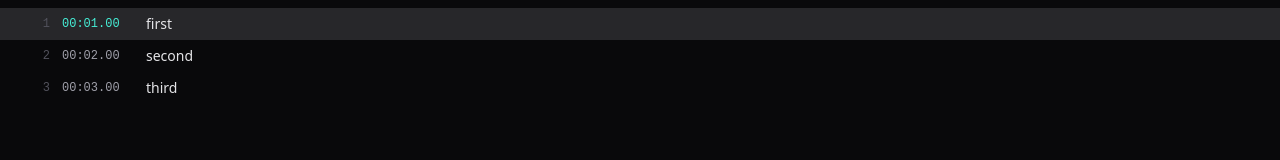
it: a lyric row › double-clicking opens the words for editing
Double-click the option "2 00:02.00 second": (118, 56) left=43, top=46, right=193, bottom=65
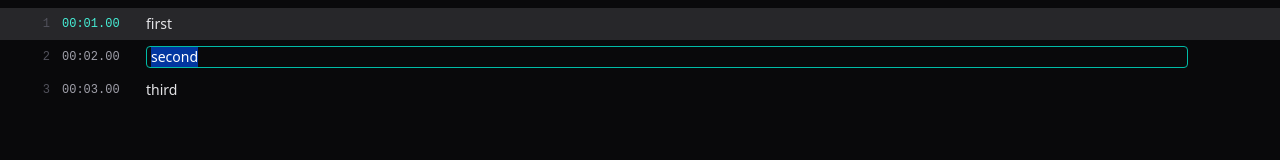
Replace the text in the field with "rewritten": (667, 57) left=146, top=46, right=1188, bottom=68
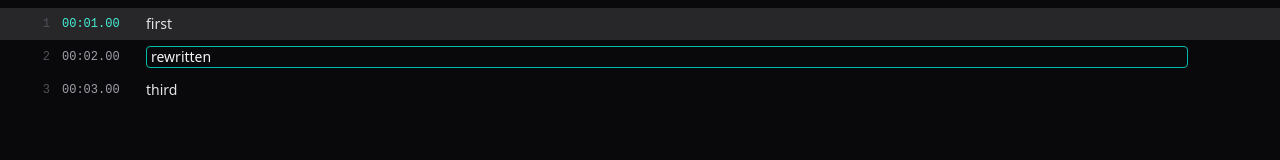
Press Enter in the field, box left=146, top=46, right=1188, bottom=68
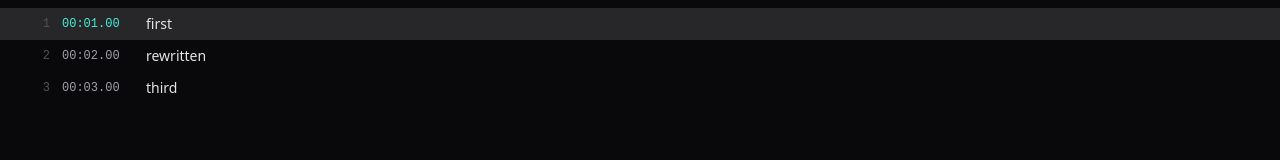
Check: the text "rewritten" is shown, box left=146, top=46, right=206, bottom=65
Check: the field is gone
